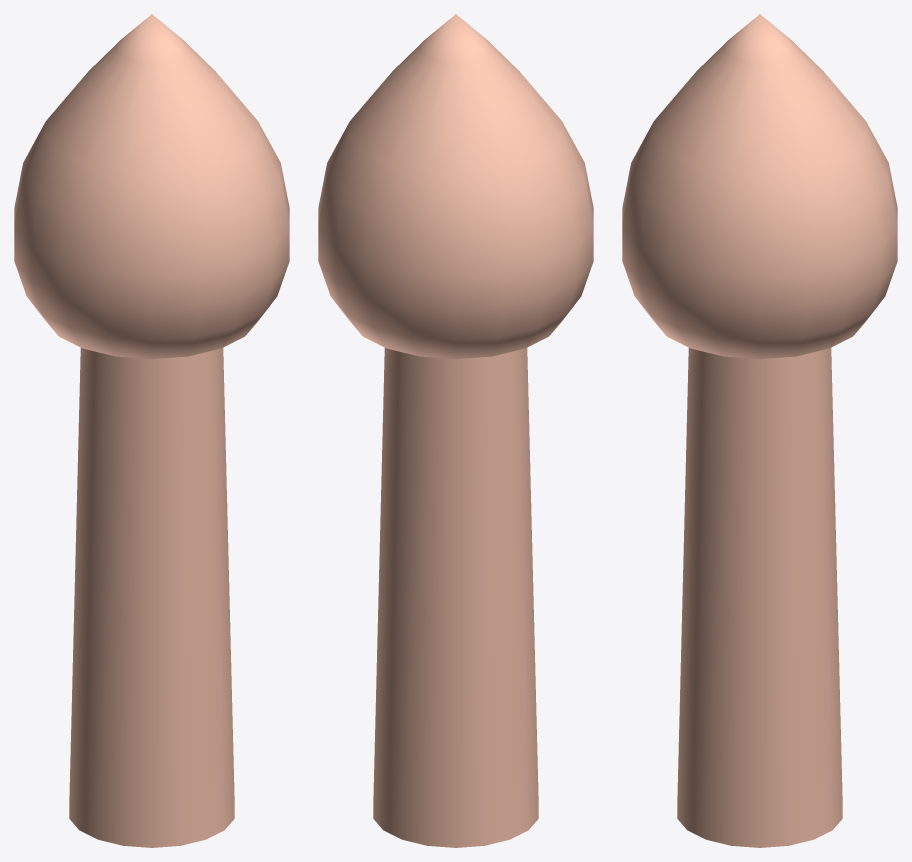
The model's file is Castillo_PilarA.fbx.
3 renders of one model, left to right at view 1: azimuth 30°, elevation 25°; view 2: azimuth 150°, elevation 25°; view 3: azimuth 270°, elevation 25°, orthographic.
Visible parts, largest first — view 1: Castillo_PilarA; view 2: Castillo_PilarA; view 3: Castillo_PilarA.
Boxes of the visible parts, <box> form: Castillo_PilarA: <box>14,14,289,847</box>; Castillo_PilarA: <box>318,14,593,847</box>; Castillo_PilarA: <box>622,14,897,847</box>.
Bounding box in the file's own units: 4674 × 14740 × 4603.
